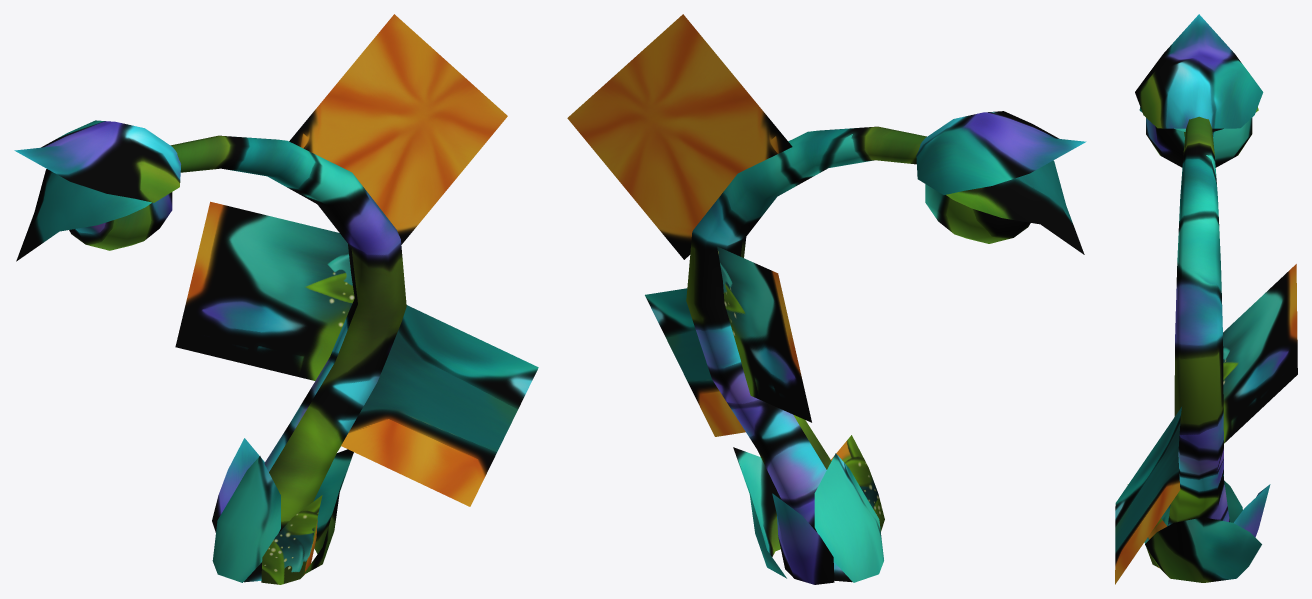
File: streetLampPlant.dae
The picture shows the model from 3 angles, left to right: view 1: azimuth 30°, elevation 25°; view 2: azimuth 150°, elevation 25°; view 3: azimuth 270°, elevation 25°; orthographic projection. The views are drawn at different scales.
Parts seen in each view (by area): view 1: streetLampPlant_bezier3; view 2: streetLampPlant_bezier3; view 3: streetLampPlant_bezier3.
Boxes of the visible parts, box(x1,y1,x2,y2) form: streetLampPlant_bezier3: box(14, 14, 538, 584); streetLampPlant_bezier3: box(567, 14, 1086, 584); streetLampPlant_bezier3: box(1115, 14, 1297, 584).
Bounding box in the file's own units: 16.07 × 15.61 × 5.54.
